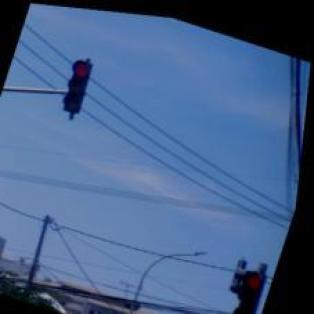Semoforo Rojo: (60, 55, 96, 115), (235, 261, 275, 314)
